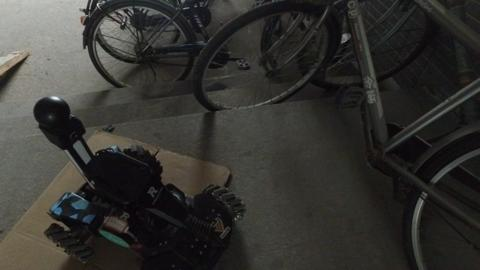chariot: (30, 93, 250, 269)
